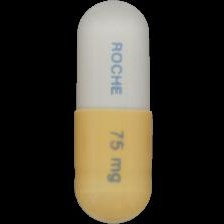54868-4476: (0, 0, 224, 224)
